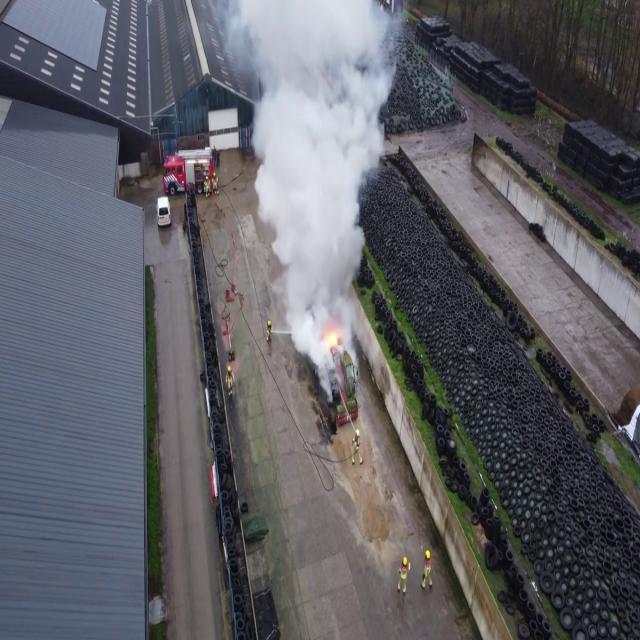Fire: (322, 320, 342, 354)
Smoke: (234, 0, 404, 350)
